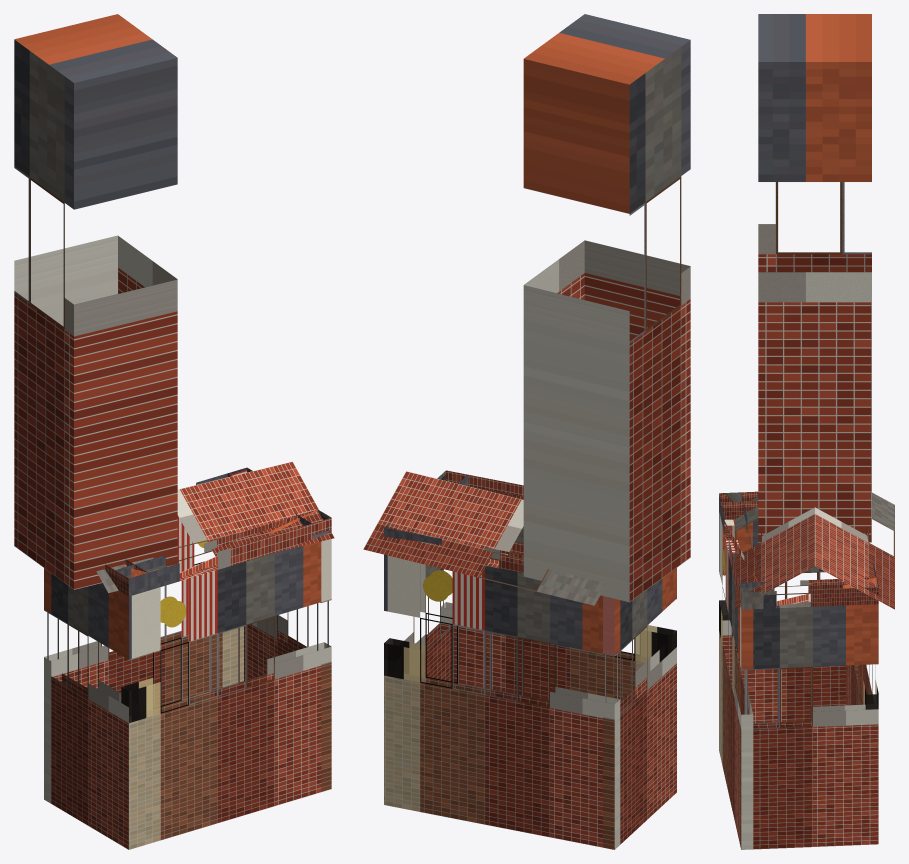
3 views of the same model, side by side, from view 1: azimuth 30°, elevation 25°; view 2: azimuth 150°, elevation 25°; view 3: azimuth 270°, elevation 25° (orthographic). The views are drawn at different scales.
Visible parts, largest first — view 1: 238531852__chimney_0_xb, 238531852__wall_2_xb, 238531852__wall_1_xb, 238531852__wall_0_xb, 238531852_roof_-1_xb, 238531852__cornice_2, 238531852__wall_3_xb, 238531852__wall_2_xf; view 2: 238531852__chimney_0_xb, 238531852__wall_0_xb, 238531852__wall_1_xb, 238531852_roof_1_xb, 238531852__wall_2_xb, 238531852__wall_3_xb, 238531852__wall_0_xf, 238531852__cornice_0, 238531852__wall_2_xf, 238531852__cornice_2; view 3: 238531852__chimney_0_xb, 238531852__wall_3_xb, 238531852__wall_2_xb, 238531852__wall_1_xb, 238531852_roof_1_xb, 238531852_roof_-1_xb, 238531852__cornice_3, 238531852__cornice_2, 238531852__wall_0_xb, 238531852__cornice_1.
Part boxes in pixels (bbox=[...]): 238531852__chimney_0_xb: bbox=[14, 14, 177, 589]; 238531852__wall_2_xb: bbox=[121, 541, 331, 849]; 238531852__wall_1_xb: bbox=[44, 573, 139, 849]; 238531852__wall_0_xb: bbox=[44, 515, 243, 803]; 238531852_roof_-1_xb: bbox=[96, 461, 334, 593]; 238531852__cornice_2: bbox=[115, 509, 331, 596]; 238531852__wall_3_xb: bbox=[244, 539, 331, 791]; 238531852__wall_2_xf: bbox=[121, 596, 160, 722]; 238531852__chimney_0_xb: bbox=[523, 14, 690, 602]; 238531852__wall_0_xb: bbox=[384, 554, 620, 849]; 238531852__wall_1_xb: bbox=[603, 568, 676, 849]; 238531852_roof_1_xb: bbox=[363, 471, 606, 605]; 238531852__wall_2_xb: bbox=[441, 526, 676, 700]; 238531852__wall_3_xb: bbox=[384, 555, 451, 681]; 238531852__wall_0_xf: bbox=[384, 555, 425, 681]; 238531852__cornice_0: bbox=[384, 521, 523, 573]; 238531852__wall_2_xf: bbox=[636, 625, 676, 662]; 238531852__cornice_2: bbox=[446, 470, 523, 499]; 238531852__chimney_0_xb: bbox=[758, 14, 871, 542]; 238531852__wall_3_xb: bbox=[740, 602, 878, 849]; 238531852__wall_2_xb: bbox=[719, 511, 753, 849]; 238531852__wall_1_xb: bbox=[719, 519, 858, 723]; 238531852_roof_1_xb: bbox=[815, 492, 894, 609]; 238531852_roof_-1_xb: bbox=[735, 496, 814, 609]; 238531852__cornice_3: bbox=[739, 577, 878, 609]; 238531852__cornice_2: bbox=[719, 492, 763, 609]; 238531852__wall_0_xb: bbox=[846, 664, 878, 709]; 238531852__cornice_1: bbox=[719, 491, 758, 519].
Bounding box in the file's own units: 0.3594 × 1.05 × 0.2321.
Materials: 1 (1 with a texture image).
